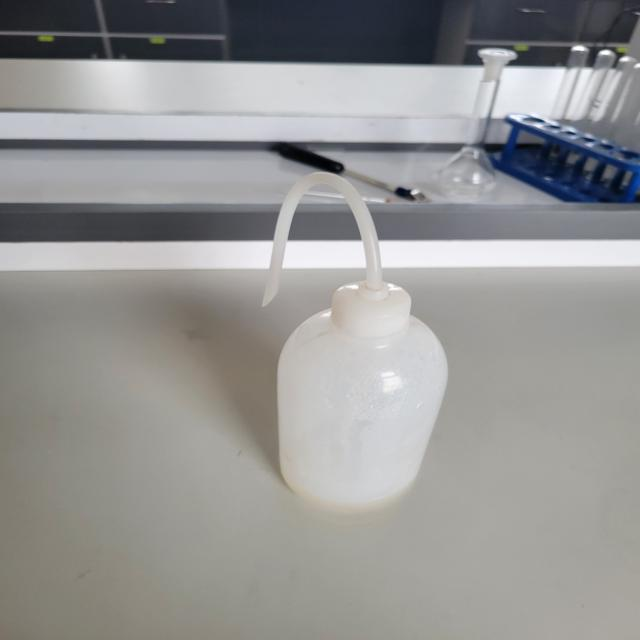Wash_Bottle: (208, 158, 480, 548)
